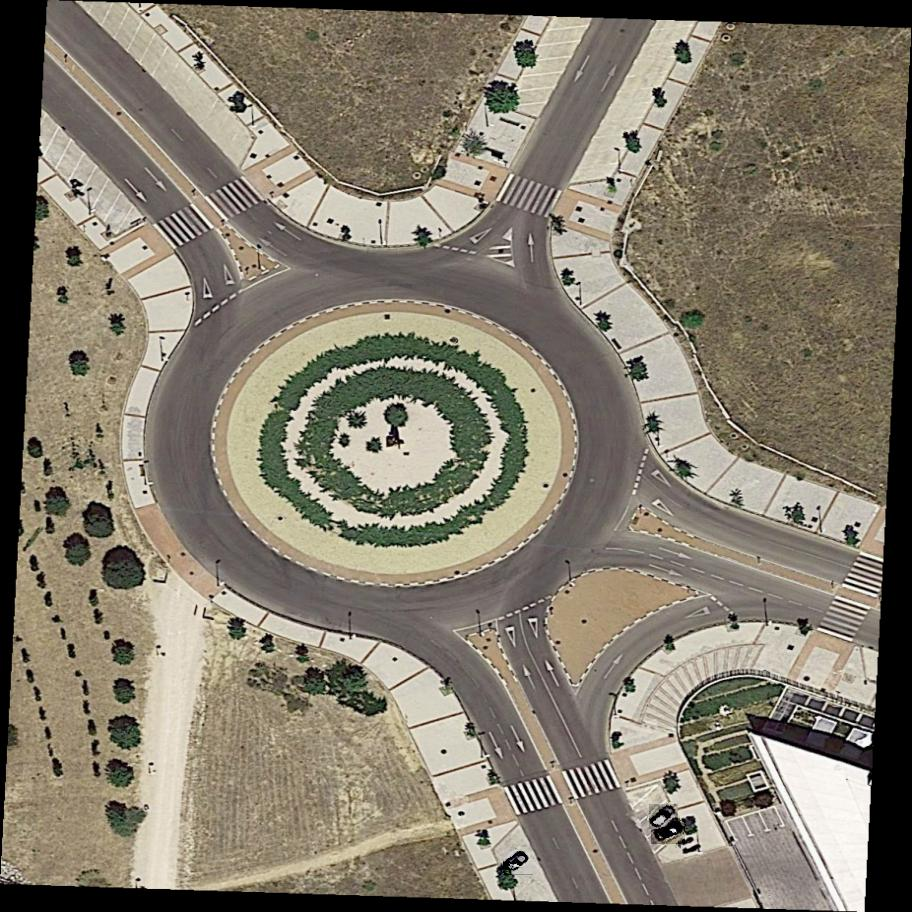small-vehicle: (649, 802, 679, 832), (652, 819, 685, 846), (503, 848, 533, 877)
